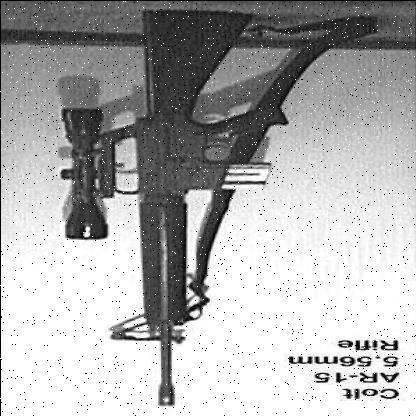rifle: (38, 7, 281, 410)
